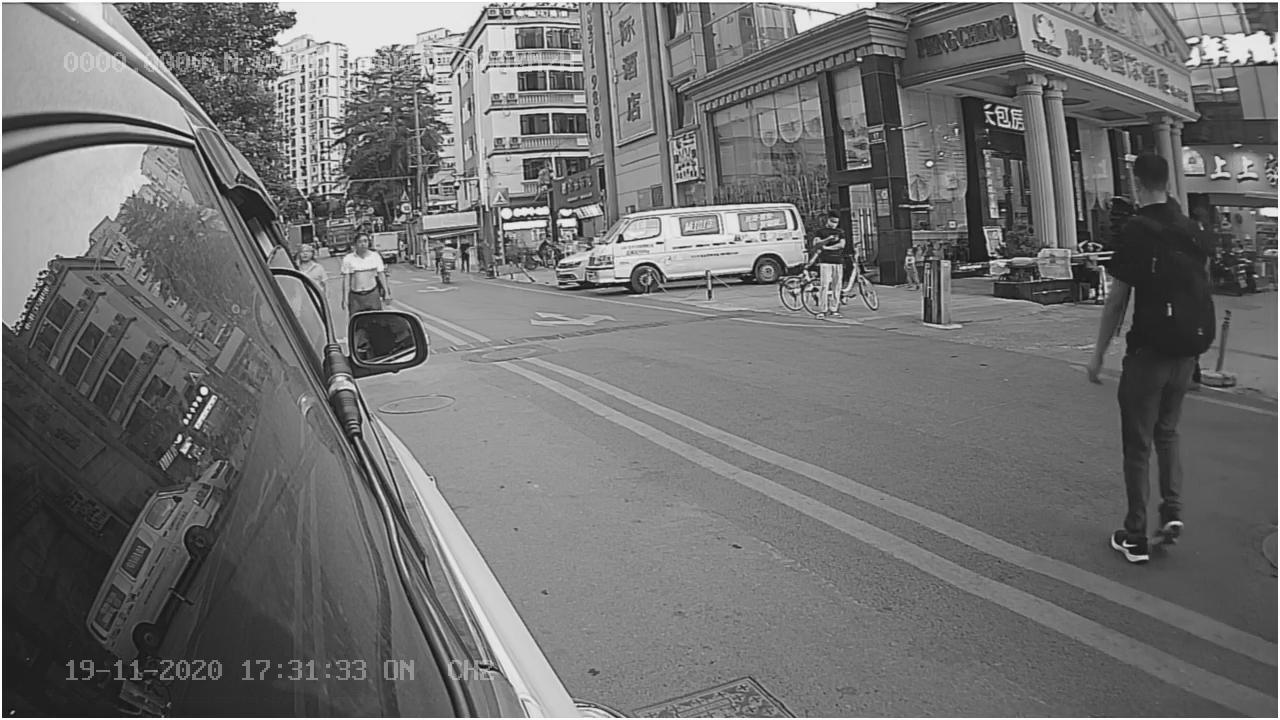person: (1092, 147, 1202, 548), (340, 229, 391, 296)
